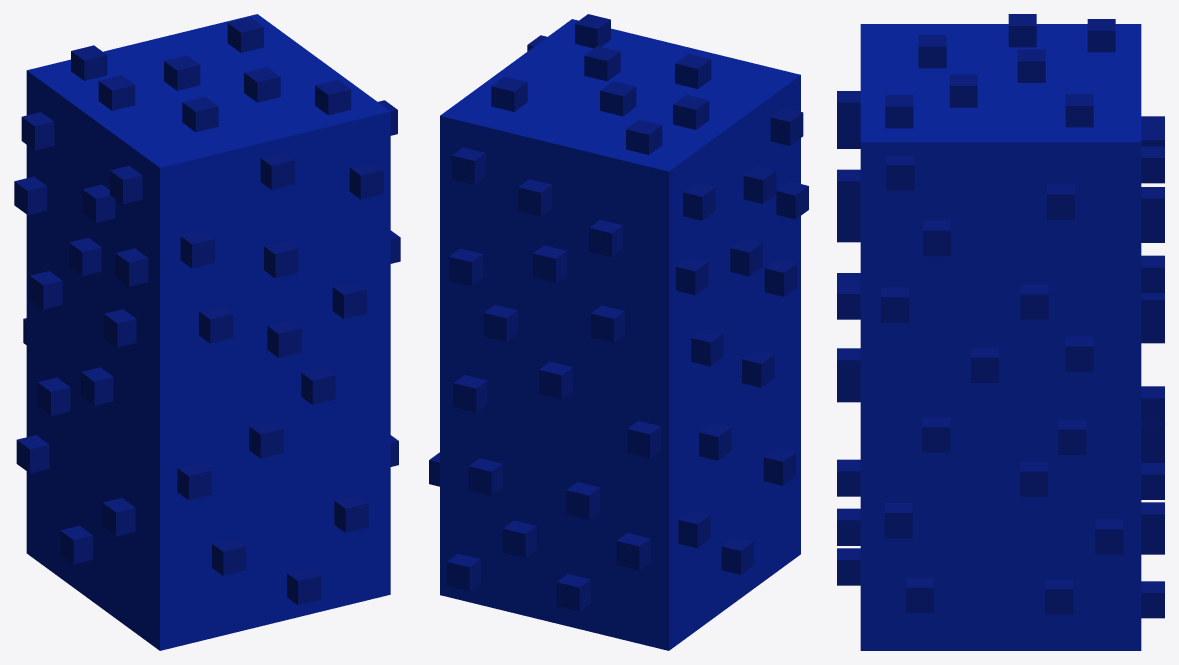
The model's file is cactusmall.fbx.
3 views of the same model, side by side, from view 1: azimuth 30°, elevation 25°; view 2: azimuth 150°, elevation 25°; view 3: azimuth 270°, elevation 25° (orthographic). The views are drawn at different scales.
Visible parts, largest first — view 1: Cactus; view 2: Cactus; view 3: Cactus.
Part boxes in pixels (x1=…): Cactus: x1=14, y1=14, x2=400, y2=650; Cactus: x1=429, y1=14, x2=808, y2=650; Cactus: x1=837, y1=14, x2=1164, y2=650.
Size of the model in its own units: 1.17 by 2.08 by 1.17.
